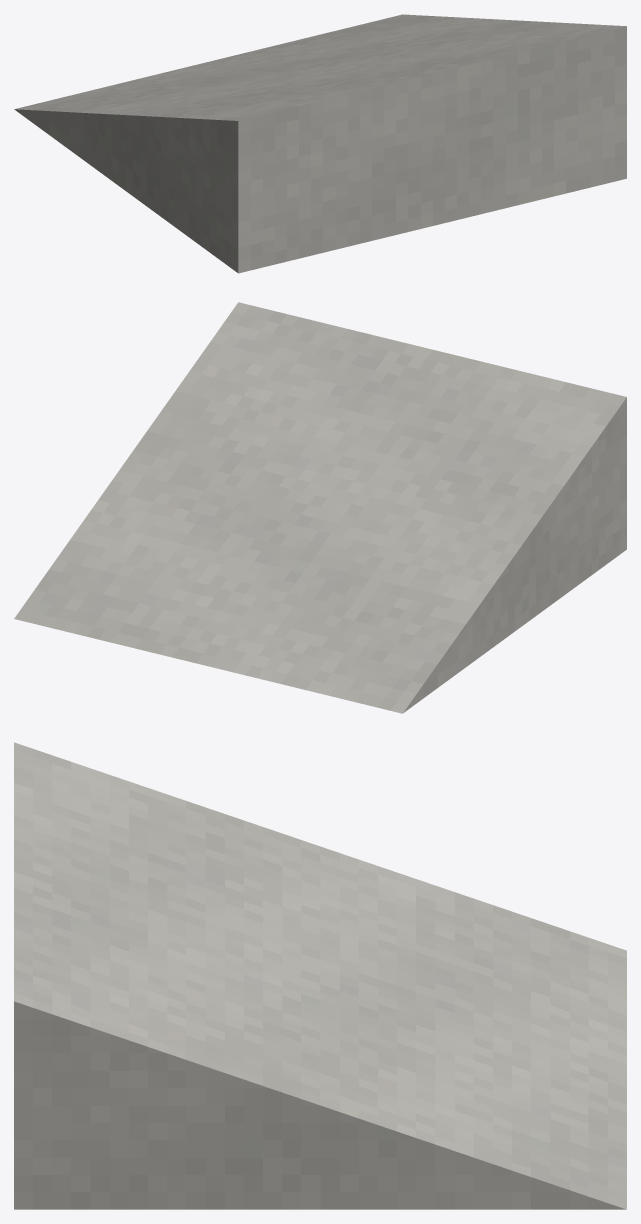
Rendered from kicker.obj.
3 views of the same model, one above another, from view 1: azimuth 30°, elevation 25°; view 2: azimuth 150°, elevation 25°; view 3: azimuth 270°, elevation 25° (orthographic). The views are drawn at different scales.
Parts seen in each view (by area): view 1: kicker; view 2: kicker; view 3: kicker.
Boxes of the visible parts, x1,y1,x2,y2 form: kicker: [14, 14, 626, 273]; kicker: [14, 302, 626, 713]; kicker: [14, 742, 626, 1209].
Size of the model in its own units: 1 by 0.375 by 1.
